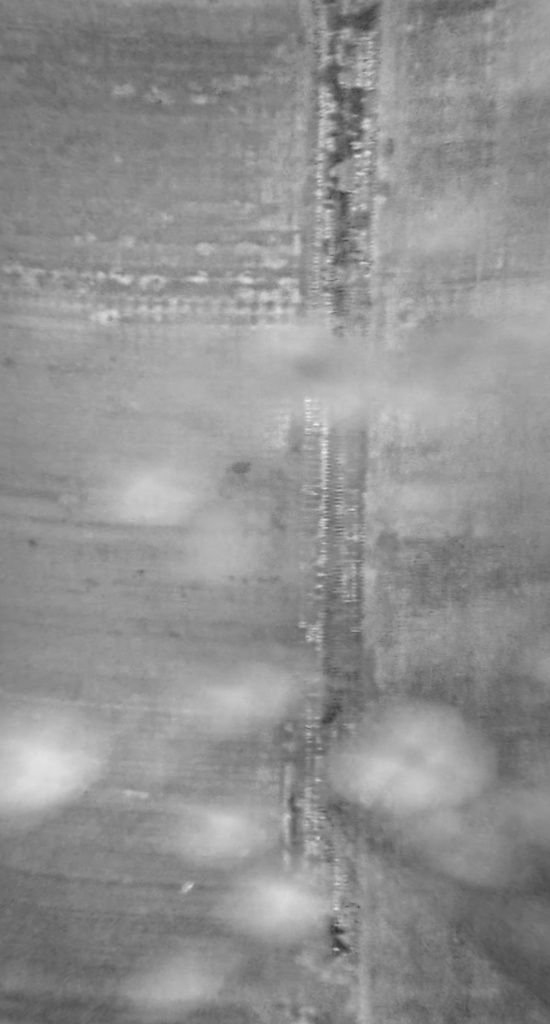splice: (292, 1, 388, 1022)
